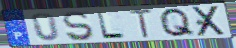0: (31, 12, 62, 43)
L: (95, 11, 128, 40)
Q: (158, 7, 198, 38)
S: (61, 10, 96, 42)
T: (128, 8, 155, 39)
X: (190, 5, 228, 38)
